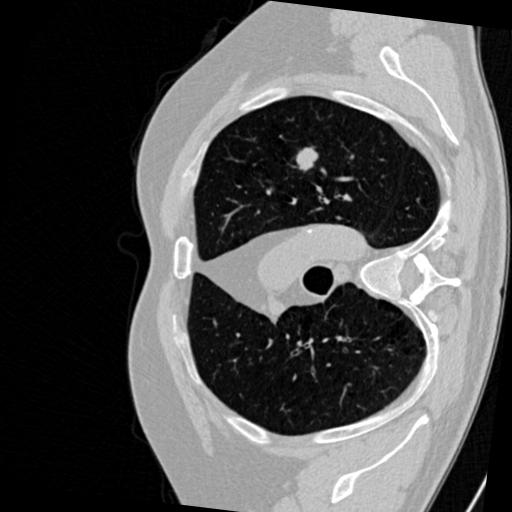nodule: (292, 145, 322, 175)
